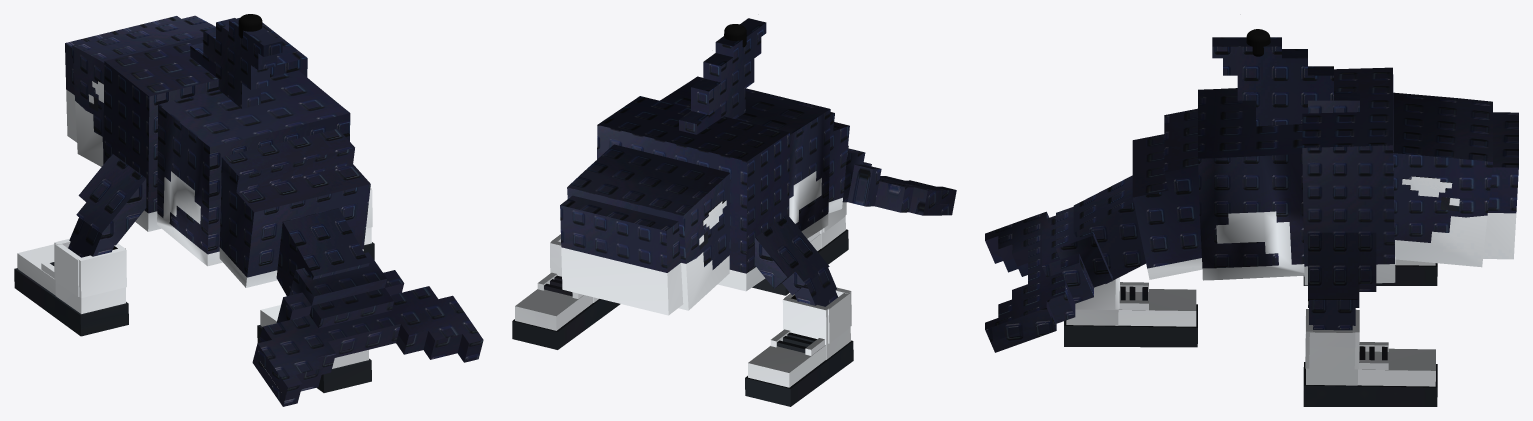
File: orcalero_orcalasteal_a_brainrot.glb
3 renders of one model, left to right at view 1: azimuth 30°, elevation 25°; view 2: azimuth 150°, elevation 25°; view 3: azimuth 270°, elevation 25°, orthographic. The views are drawn at different scales.
Visible parts, largest first — view 1: Object_2, Object_3; view 2: Object_2; view 3: Object_2, Object_3.
Part boxes in pixels (x1,y1,x2,y2): Object_2: (14,15,483,406); Object_3: (238,14,262,38); Object_2: (512,18,956,406); Object_2: (985,37,1518,406); Object_3: (1246,29,1270,56).
Bounding box in the file's own units: 4.4 × 4.45 × 6.88.
Materials: 2 (2 with a texture image).
